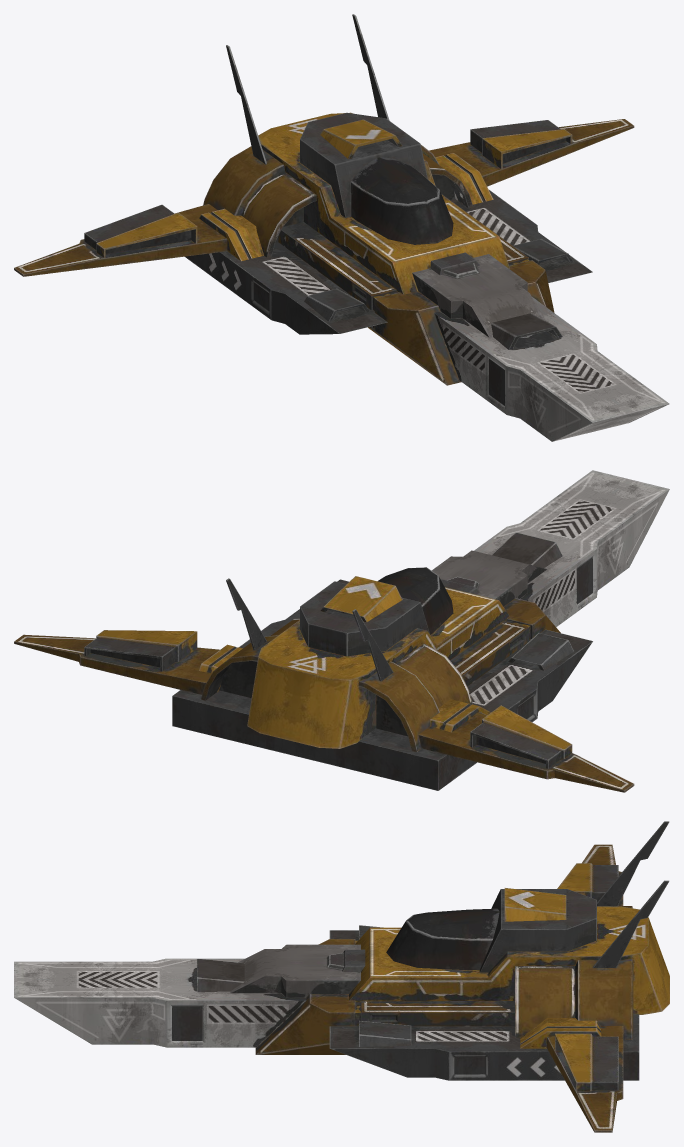
Rendered from challenger.glb.
The picture shows the model from 3 angles, top to bottom: view 1: azimuth 30°, elevation 25°; view 2: azimuth 150°, elevation 25°; view 3: azimuth 270°, elevation 25°; orthographic projection. The views are drawn at different scales.
Visible parts, largest first — view 1: Challenger; view 2: Challenger; view 3: Challenger.
Boxes of the visible parts, x1,y1,x2,y2 form: Challenger: (14, 14, 669, 441); Challenger: (14, 470, 669, 792); Challenger: (14, 821, 669, 1132).
Size of the model in its own units: 10.5 by 3.02 by 10.18.
Materials: 1 (1 with a texture image).
